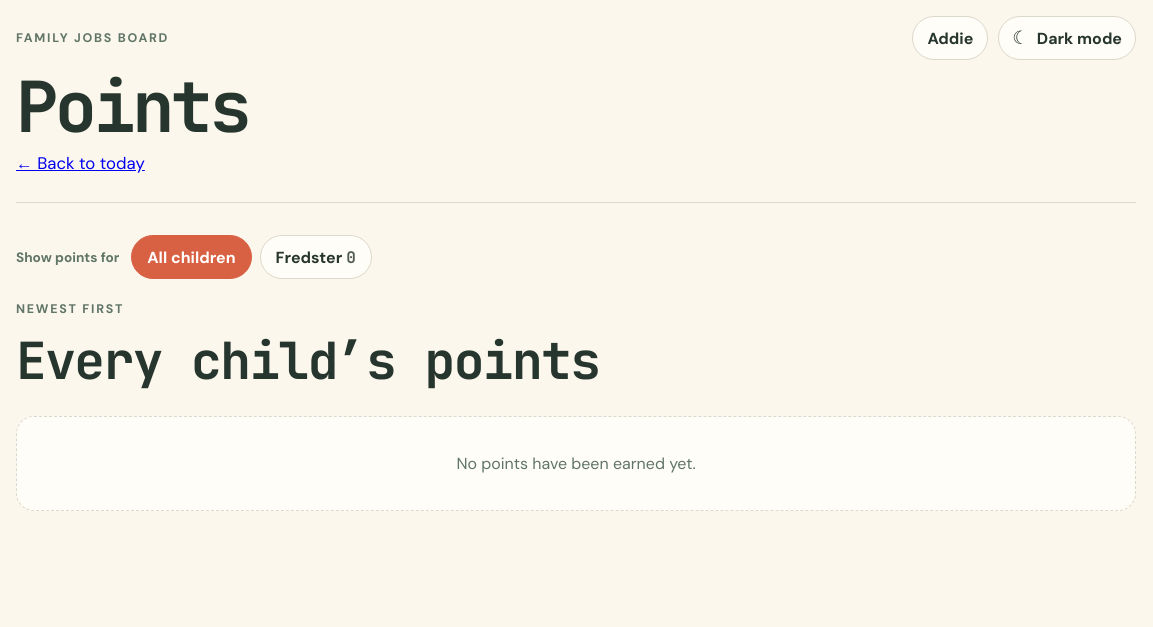
Test case: Points ledger › signs out from the points page
Expected: the heading "Points" is shown, [16,72,248,142]
Click the heading "Addie" at (950,38), box [912,16,988,60]
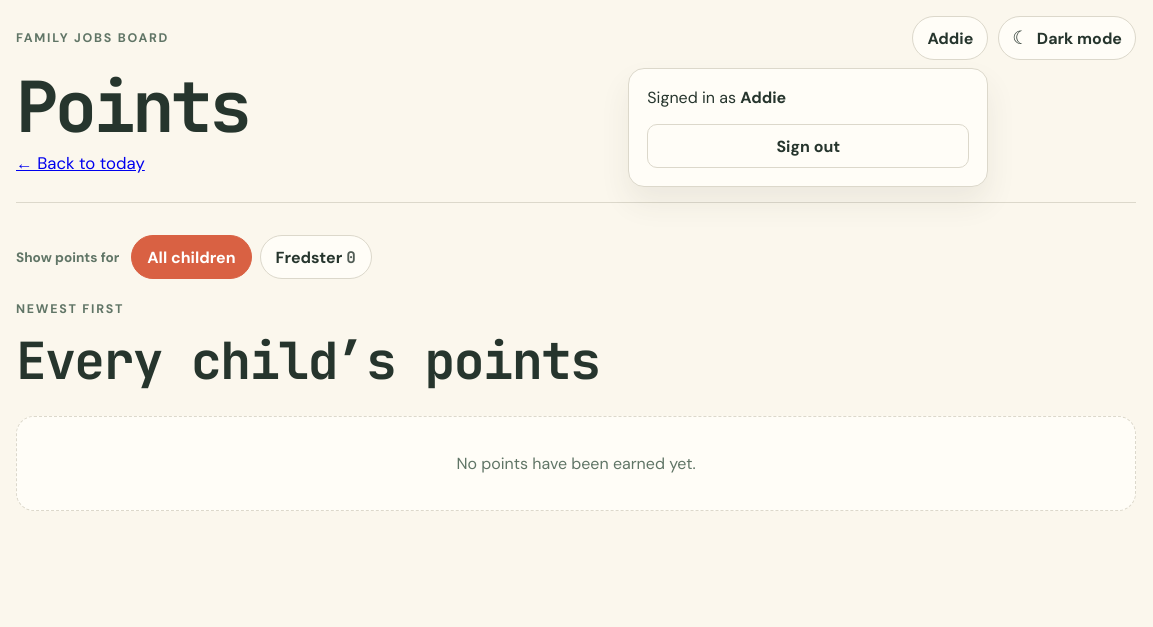
Click the button "Sign out" at (808,146), box [647,124,969,168]
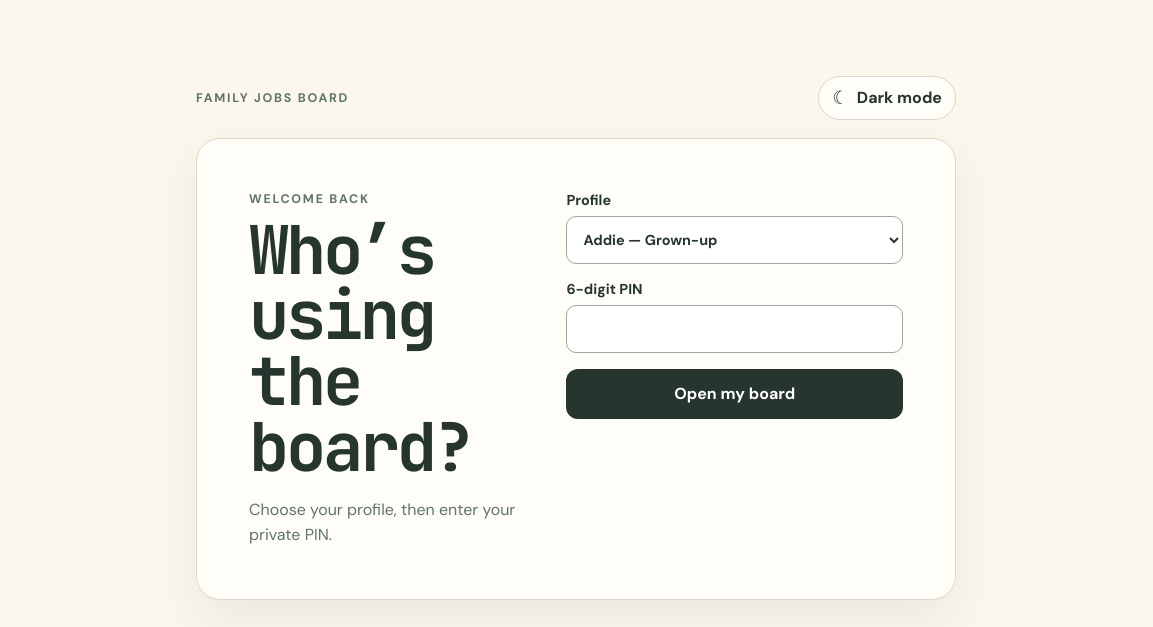
Expected: the heading "Who’s using the board?" is shown, [249,204,471,491]
